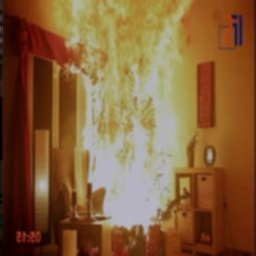fire: (60, 0, 203, 232)
